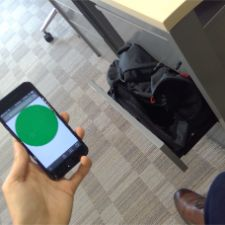focus: (11, 102, 63, 149)
